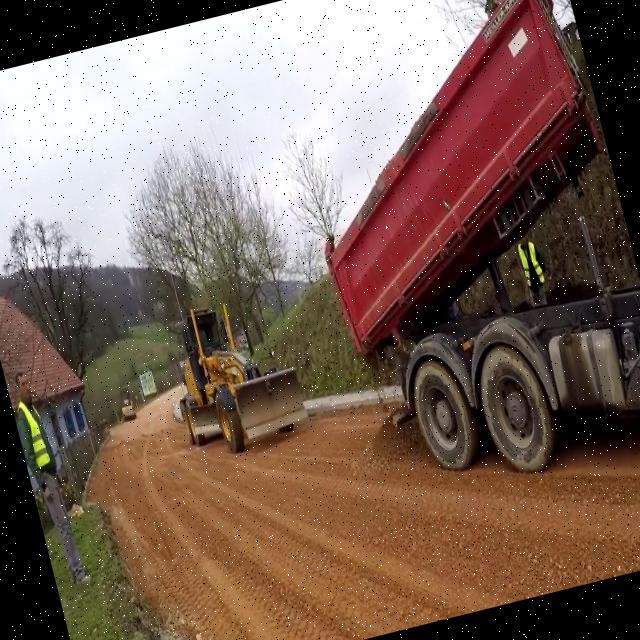Dump Truck: (267, 0, 640, 502)
Grader: (156, 288, 311, 461)
Roller: (116, 386, 139, 419)
